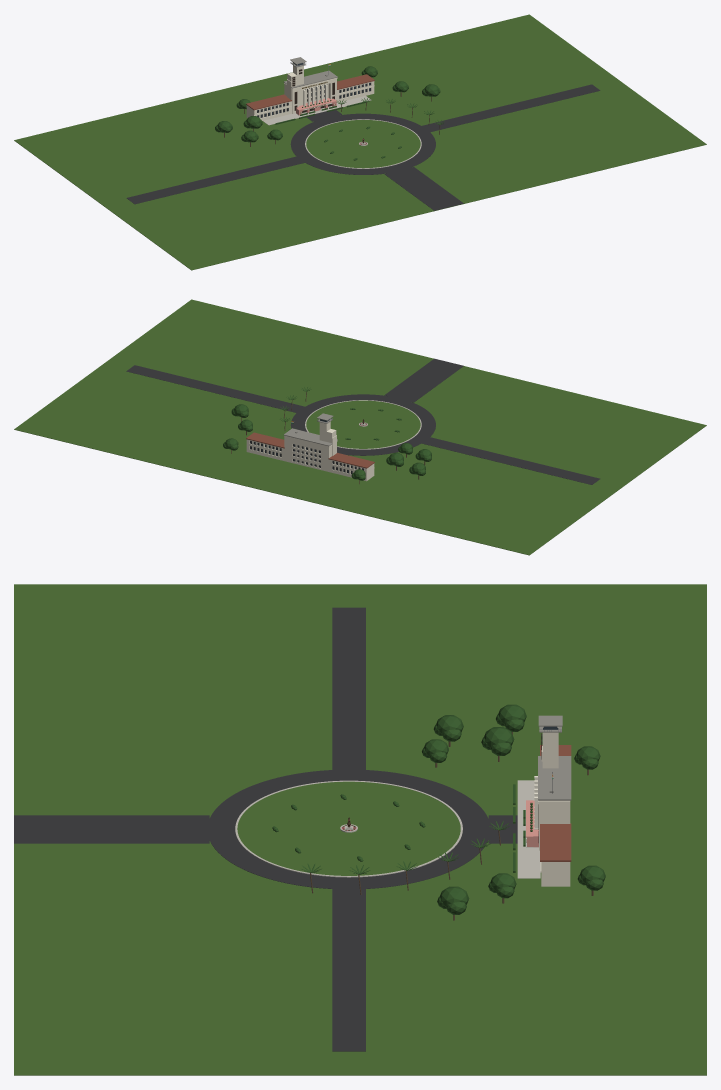
The model's file is IIT_Kharagpur_Main_Building.glb.
3 renders of one model, top to bottom at view 1: azimuth 30°, elevation 25°; view 2: azimuth 150°, elevation 25°; view 3: azimuth 270°, elevation 25°, orthographic. The views are drawn at different scales.
Parts seen in each view (by area): view 1: Ground, Approach_Roads, Garden_Lawn, Circular_Road, Trees, Wing_Cornice, Left_Wing, Forecourt, Central_Facade, Right_Wing; view 2: Ground, Approach_Roads, Garden_Lawn, Circular_Road, Trees, Central_Facade, Wing_Cornice, Windows_Glass, Right_Wing, Left_Wing; view 3: Ground, Approach_Roads, Garden_Lawn, Circular_Road, Trees, Forecourt, Wing_Cornice, Roofs, Garden_Kerb, Central_Facade, Right_Wing.
Part boxes in pixels (x1,y1,x2,y2): Ground: (14, 14, 706, 270); Approach_Roads: (126, 84, 600, 210); Garden_Lawn: (306, 120, 420, 168); Circular_Road: (290, 113, 435, 174); Trees: (215, 66, 440, 142); Wing_Cornice: (246, 74, 374, 110); Left_Wing: (246, 101, 291, 120); Forecourt: (263, 96, 371, 125); Central_Facade: (284, 78, 337, 113); Right_Wing: (337, 81, 374, 102); Ground: (14, 299, 706, 555); Approach_Roads: (126, 358, 600, 484); Garden_Lawn: (306, 400, 420, 448); Circular_Road: (290, 394, 435, 455); Trees: (223, 404, 431, 480); Central_Facade: (284, 435, 337, 471); Wing_Cornice: (246, 432, 374, 468); Windows_Glass: (250, 419, 363, 473); Right_Wing: (246, 439, 284, 460); Left_Wing: (329, 459, 374, 481); Ground: (14, 584, 706, 1075); Approach_Roads: (14, 607, 517, 1051); Garden_Lawn: (237, 781, 460, 875); Circular_Road: (207, 769, 490, 889); Trees: (422, 704, 605, 914); Forecourt: (517, 780, 540, 878); Wing_Cornice: (540, 745, 571, 861); Roofs: (538, 756, 571, 800); Garden_Kerb: (235, 780, 462, 877); Central_Facade: (538, 800, 570, 850); Right_Wing: (540, 862, 570, 886).
Bounding box in the file's own units: 520 × 47.95 × 310.
